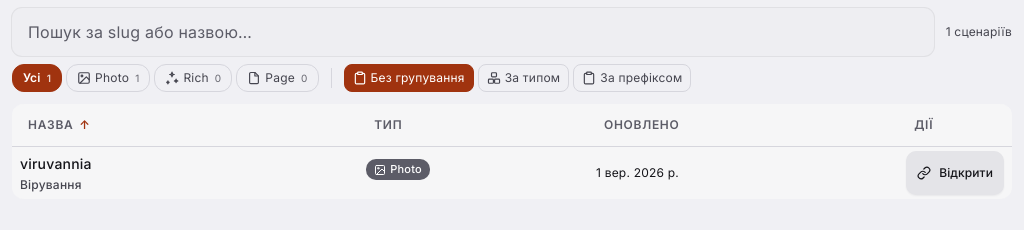
it: ScenariosV2Table › фільтр без збігів каже, за чим шукали
The width and height of the screenshot is (1024, 230).
Type "zzz" into the field with placeholder "Пошук за slug або назвою…". click: (473, 32)
box: [12,8,934,56]
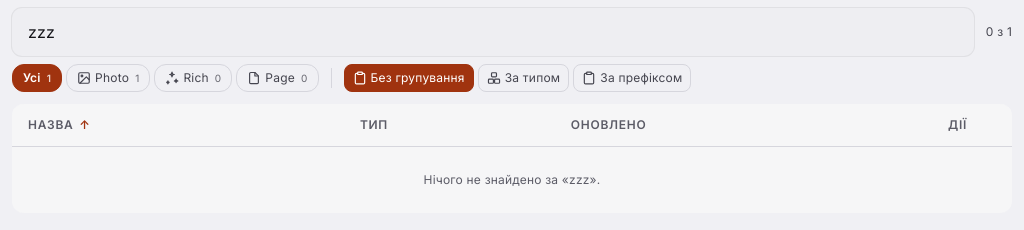
Now the text "Нічого не знайдено за «zzz»." is shown, box [12,147,1012,213]
